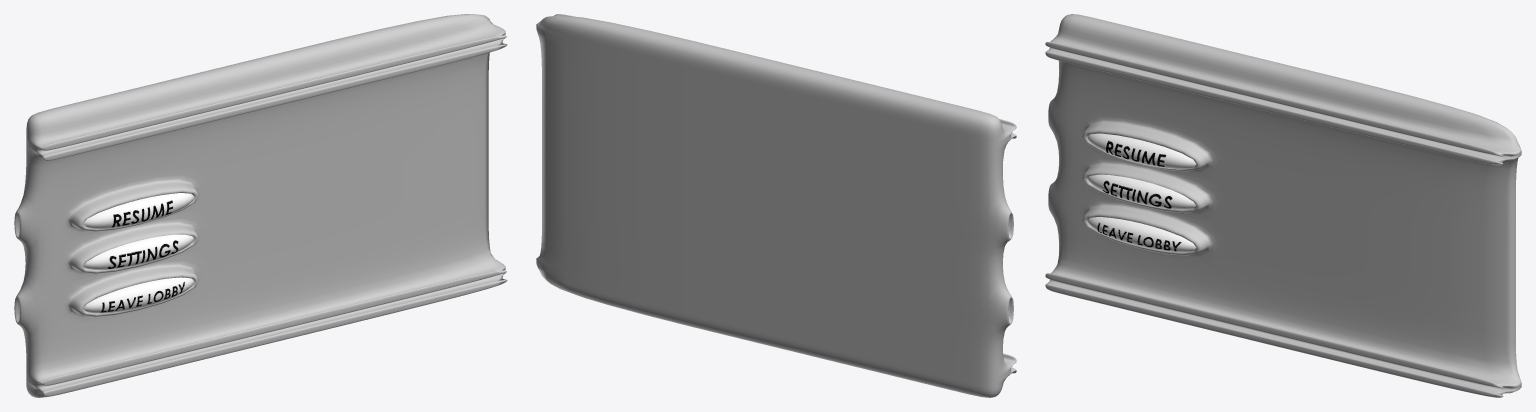
File: SM_Pause_Menu_00.fbx
The picture shows the model from 3 angles, left to right: view 1: azimuth 30°, elevation 25°; view 2: azimuth 150°, elevation 25°; view 3: azimuth 330°, elevation 25°; orthographic projection.
Parts seen in each view (by area): view 1: SM_Pause_Menu_00, SM_Pause_Menu_Button_00, SM_Pause_Menu_Button_02, SM_Pause_Menu_Button_01; view 2: SM_Pause_Menu_00; view 3: SM_Pause_Menu_00, SM_Pause_Menu_Button_00, SM_Pause_Menu_Button_02, SM_Pause_Menu_Button_01.
Boxes of the visible parts, x1,y1,x2,y2 form: SM_Pause_Menu_00: (14,14,507,397); SM_Pause_Menu_Button_00: (83,193,194,229); SM_Pause_Menu_Button_02: (83,277,194,313); SM_Pause_Menu_Button_01: (83,234,194,270); SM_Pause_Menu_00: (536,14,1016,397); SM_Pause_Menu_00: (1045,14,1521,397); SM_Pause_Menu_Button_00: (1087,133,1196,169); SM_Pause_Menu_Button_02: (1087,217,1196,252); SM_Pause_Menu_Button_01: (1087,174,1196,209).
Size of the model in its own units: 2032 by 1146 by 208.
